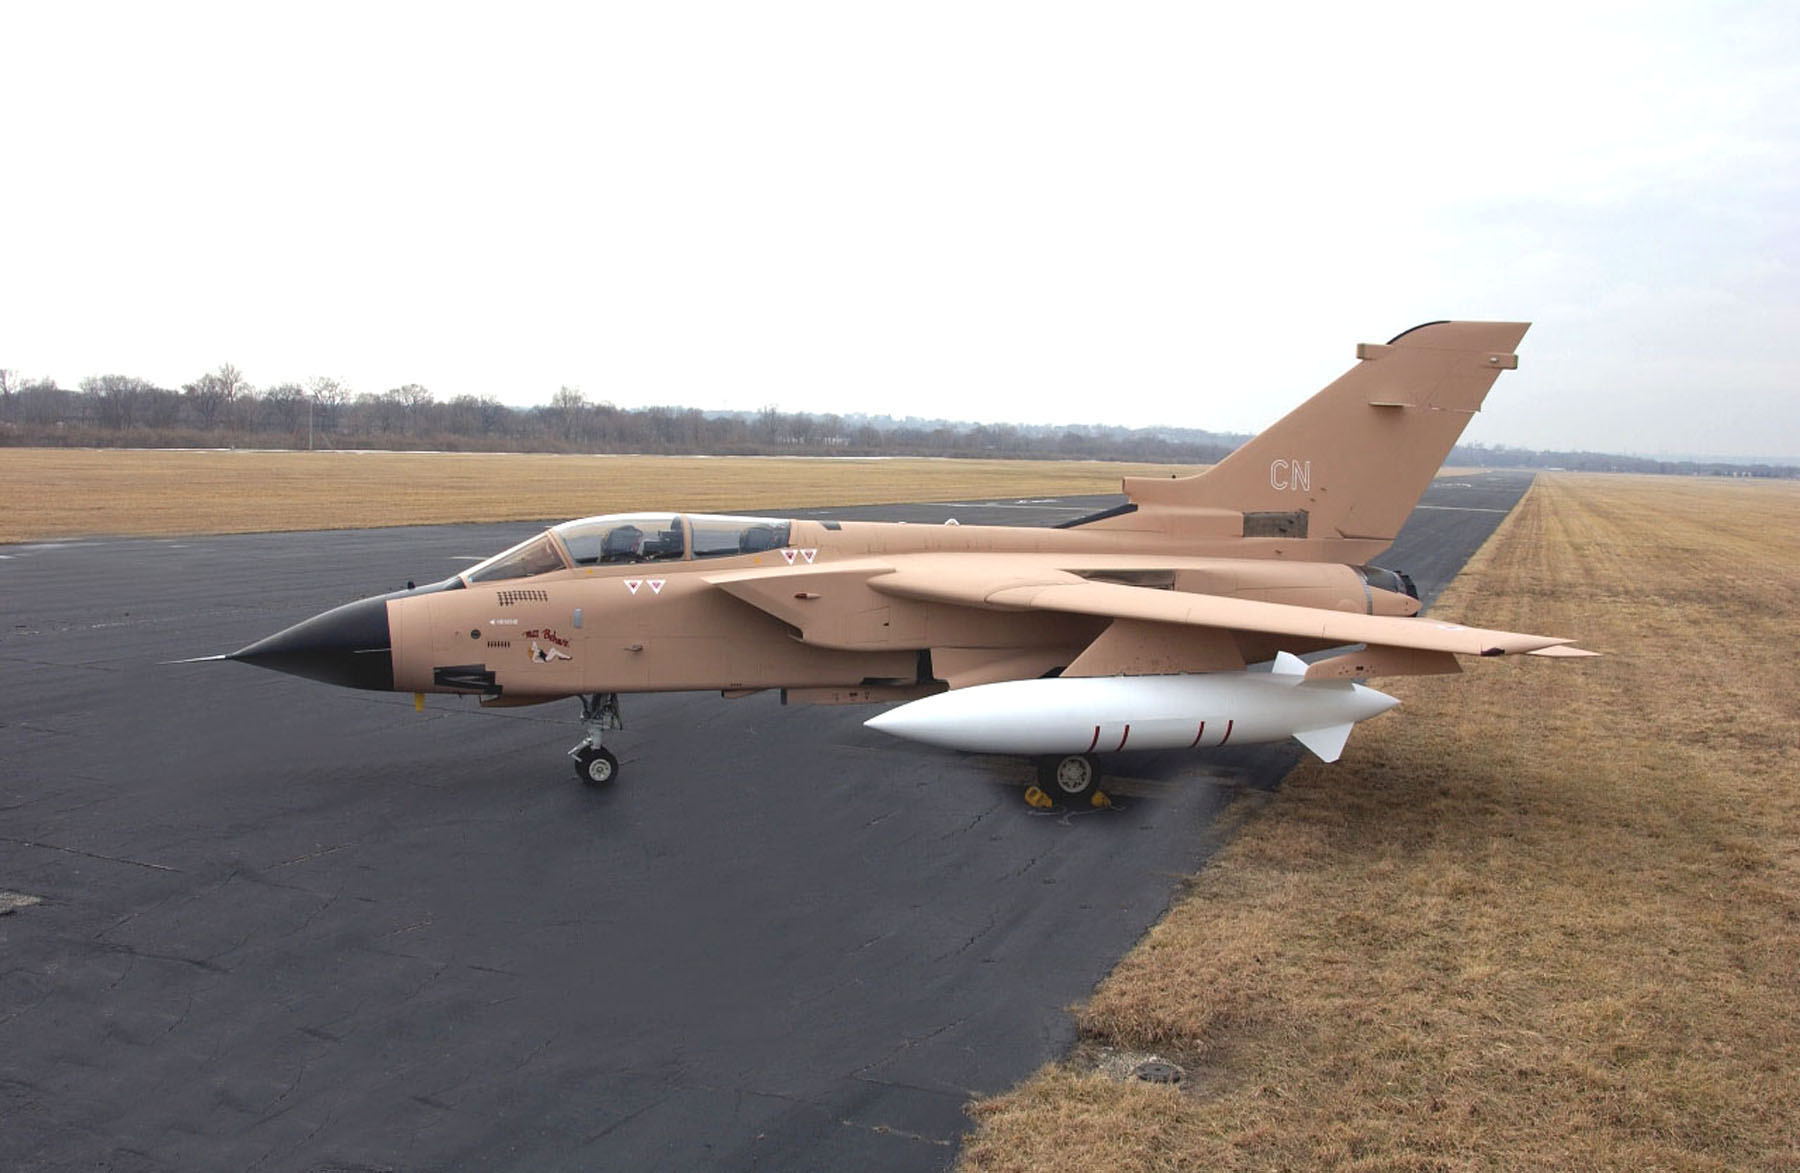Tornado: (157, 320, 1606, 806)
